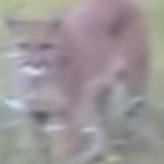Mountain Lion: (6, 9, 155, 160)
